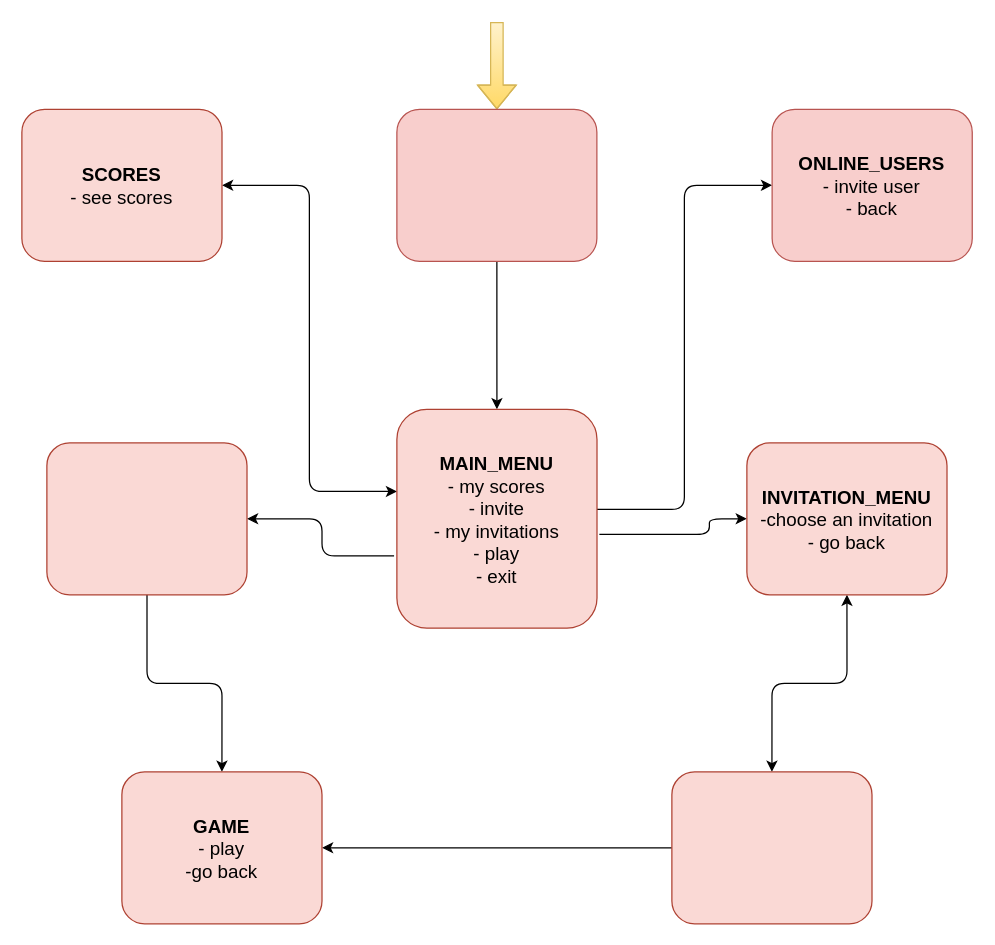
This 995x945 diagram has some shape labels left out. The shapes that lost their labels are listed below. From the top down, each one's centre as x and y in pixels, then its label:
At point 496,184: "LOGIN".
At point 146,518: "PLAY_MENU - choose player - go back".
At point 771,847: "INVITATION - accept/decline".
